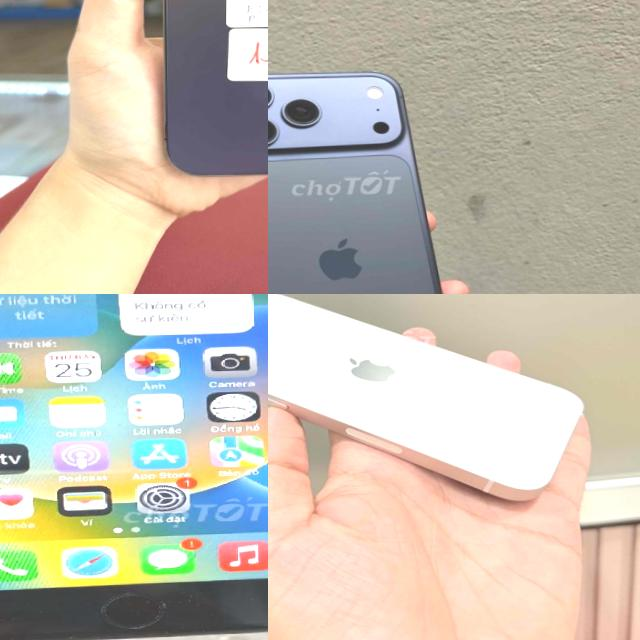gen_12_13: (268, 294, 590, 508)
gen_14: (144, 0, 268, 194)
gen_17: (268, 57, 470, 294)
gen_7_8: (0, 294, 268, 640)
